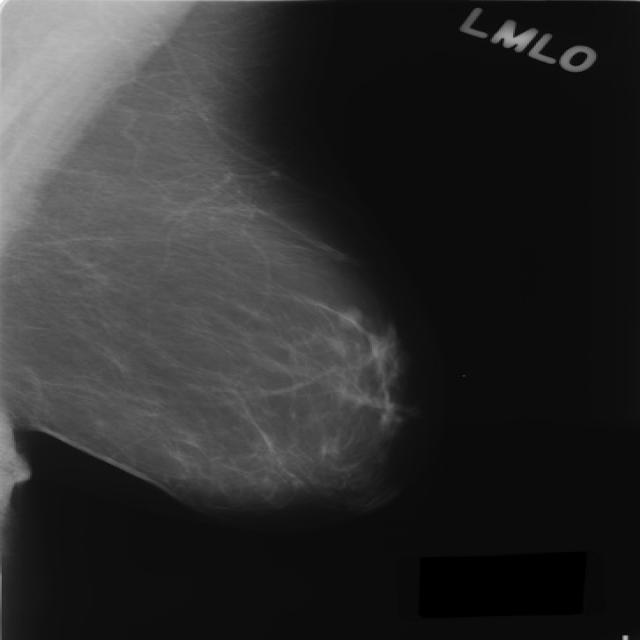tumour: (335, 305, 361, 327)
